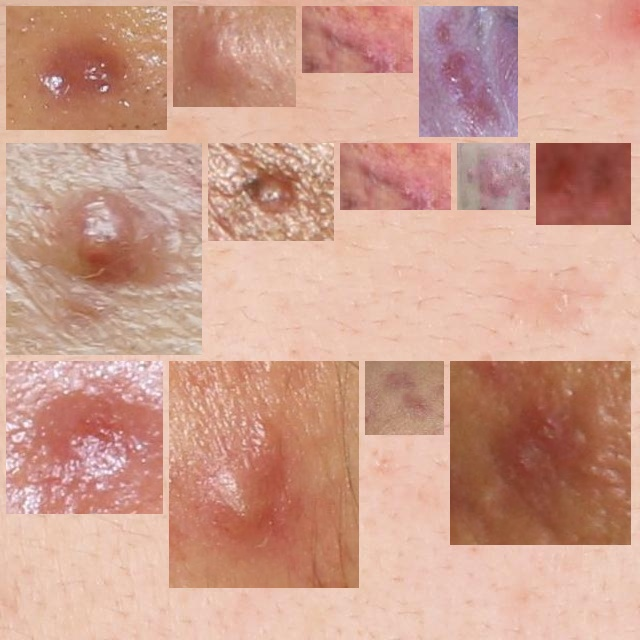nodule: (177, 369, 351, 580), (14, 151, 194, 347), (458, 369, 623, 537), (14, 369, 155, 506), (14, 14, 159, 122), (427, 14, 510, 129), (181, 14, 288, 99), (216, 151, 326, 233), (544, 151, 623, 224), (310, 14, 405, 65), (348, 151, 443, 202), (373, 369, 436, 427), (465, 151, 522, 202)
